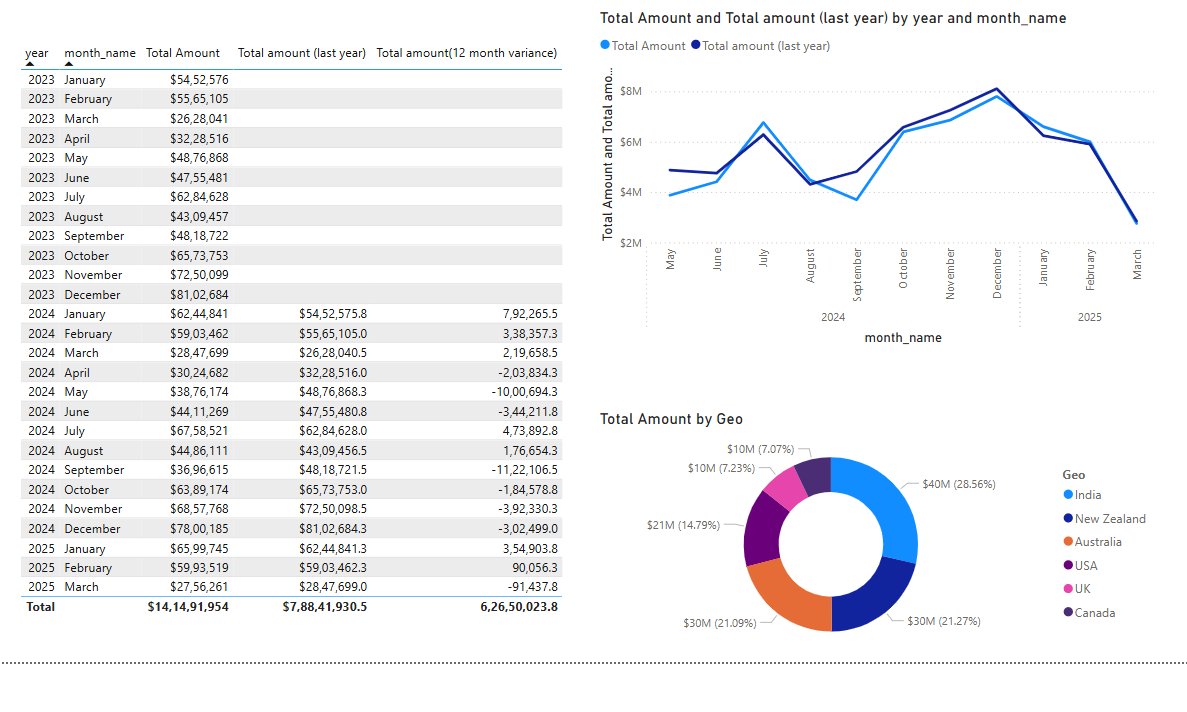

This screenshot's page, from the dashboard's own definition file:
{"tool":"powerbi","page":{"name":"Page 6","canvas":[1280,720],"ordinal":5},"visuals":[{"type":"tableEx","fields":{"Values":["calendar.year","calendar.month_name","shipments.Total Amount","shipments.Total amount (last year)","shipments.Total amount(12 month variance)"]},"box":[16,48,624,672],"z":0},{"type":"lineChart","fields":{"Category":["calendar.year","calendar.month_name"],"Y":["shipments.Total Amount","shipments.Total amount (last year)"]},"box":[640,16,608,368],"z":1000},{"type":"donutChart","fields":{"Category":["locations.Geo"],"Y":["shipments.Total Amount"]},"box":[640,448,608,272],"z":2000}]}

Visuals, with their boxes on the page's 1280x720 design canvas (x1, y1, x2, y2). These are canvas units, not pixel positions in the 1187x712 screenshot, which may show the page scaled, cropped or inside an application window:
tableEx - calendar.year x calendar.month_name: Rect(16, 48, 640, 720)
lineChart - calendar.year x calendar.month_name: Rect(640, 16, 1248, 384)
donutChart - locations.Geo x shipments.Total Amount: Rect(640, 448, 1248, 720)
